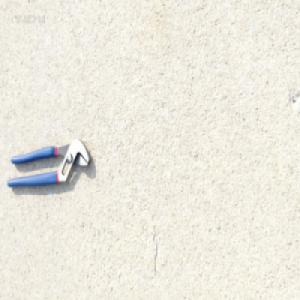Pliers: (5, 134, 90, 190)
